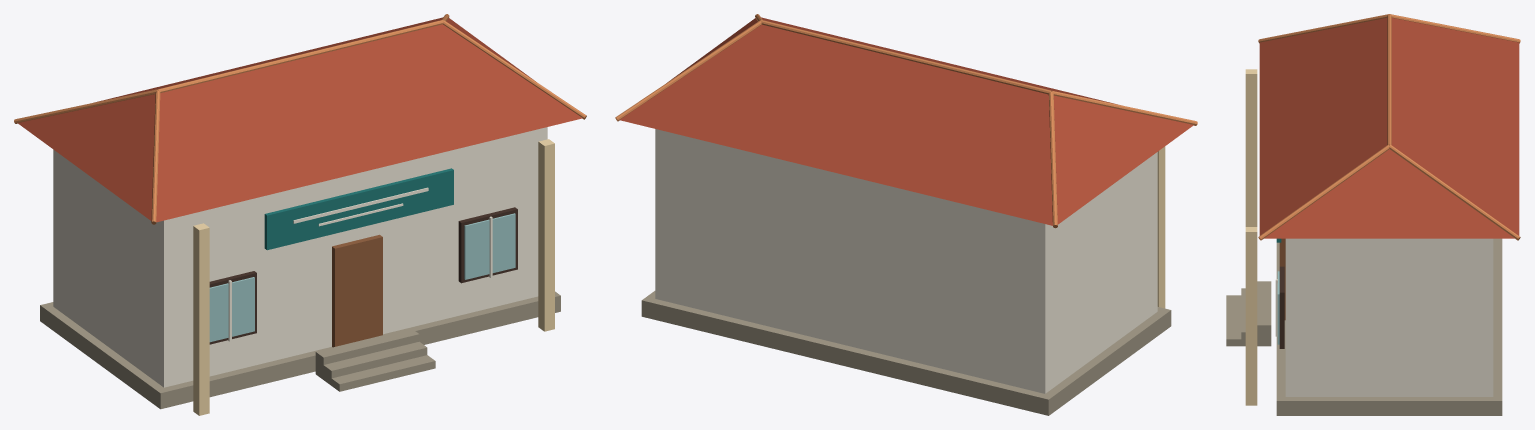
The model's file is 003_village_schoolhouse.glb.
The picture shows the model from 3 angles, left to right: view 1: azimuth 30°, elevation 25°; view 2: azimuth 150°, elevation 25°; view 3: azimuth 270°, elevation 25°; orthographic projection. The views are drawn at different scales.
Parts seen in each view (by area): view 1: Village schoolhouse; view 2: Village schoolhouse; view 3: Village schoolhouse.
Part boxes in pixels (x1,y1,x2,y2): Village schoolhouse: (14,14,586,415); Village schoolhouse: (615,14,1197,415); Village schoolhouse: (1226,14,1520,415).
Size of the model in its own units: 9.08 by 5.22 by 5.67.
